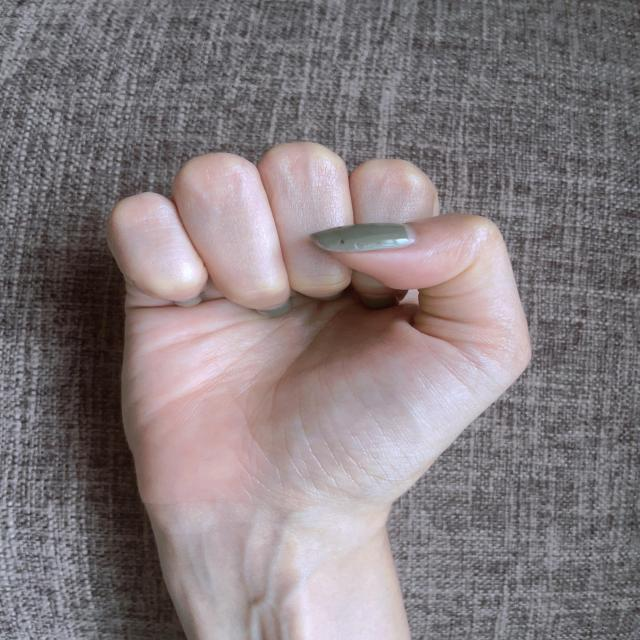S: (105, 136, 533, 503)
